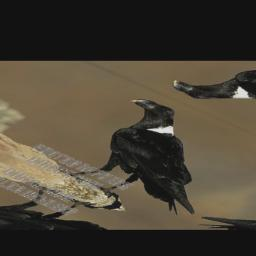Crow: (11, 95, 256, 226)
